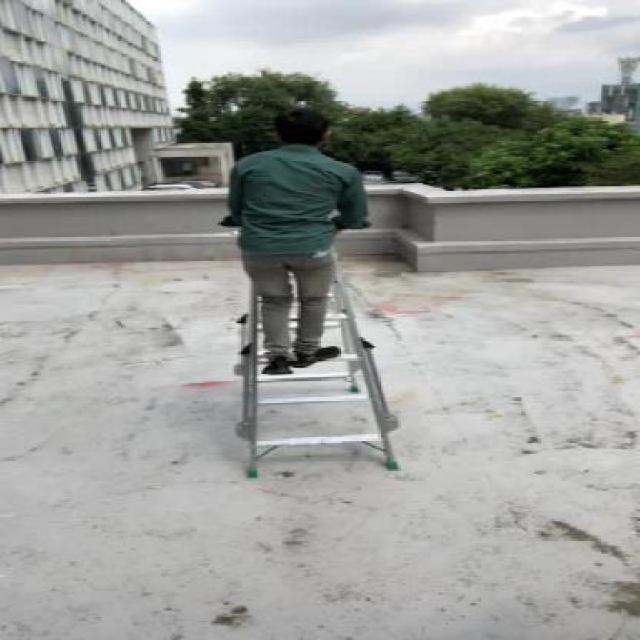hard hat: (217, 226, 425, 482)
vest: (225, 103, 381, 377)
